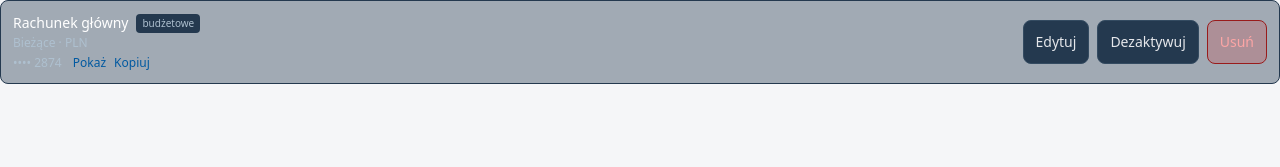
Test: AccountRow inactive accounts and IBAN copying › offers the IBAN for manual copying when clipboard access is denied
The image size is (1280, 167).
Click the button "Kopiuj" at (132, 63), box [114,55,150,71]
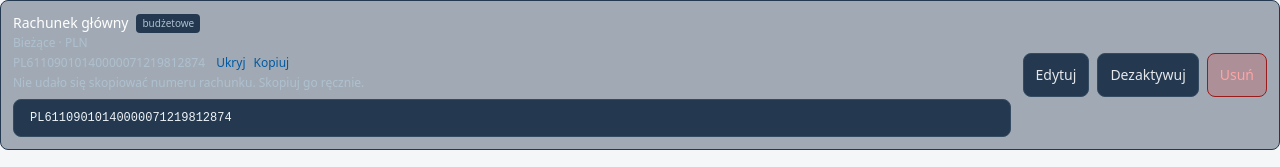
Expected: the message reads "Nie udało się skopiować numeru rachunku. Skopiuj go ręcznie.", [13,74,364,91]
Expected: the field named "Numer rachunku do ręcznego skopiowania" holds "PL61109010140000071219812874", [13,99,1010,137]
Expected: the button "Ukryj" is shown
Click the button "Ukryj" at (231, 63), box [216,55,246,71]
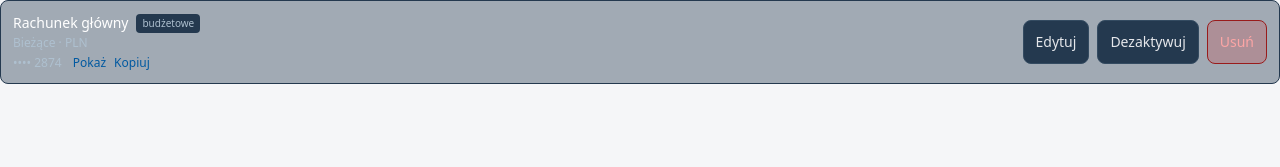
Expected: the message "Nie udało się skopiować numeru rachunku. Skopiuj go ręcznie." is gone
